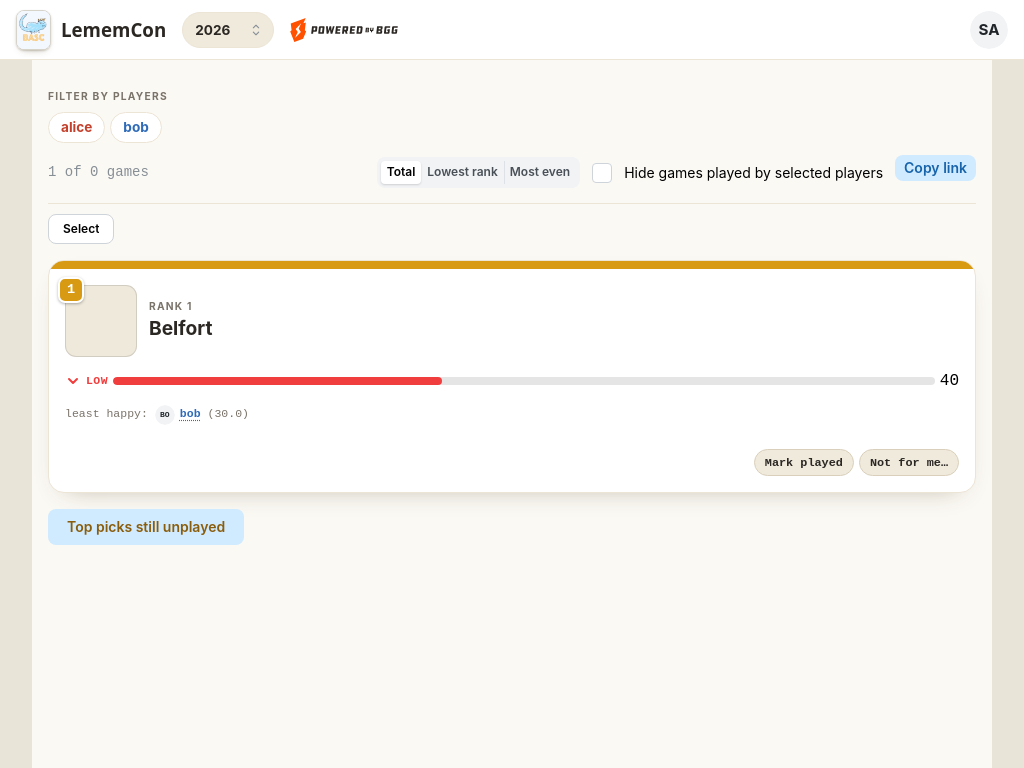
Test: Scoreboard › marking played › shows an error and keeps the dialog open when marking fails
The image size is (1024, 768).
Click the button with aria-label "Played:" at (804, 463), box [754,449,854,476]
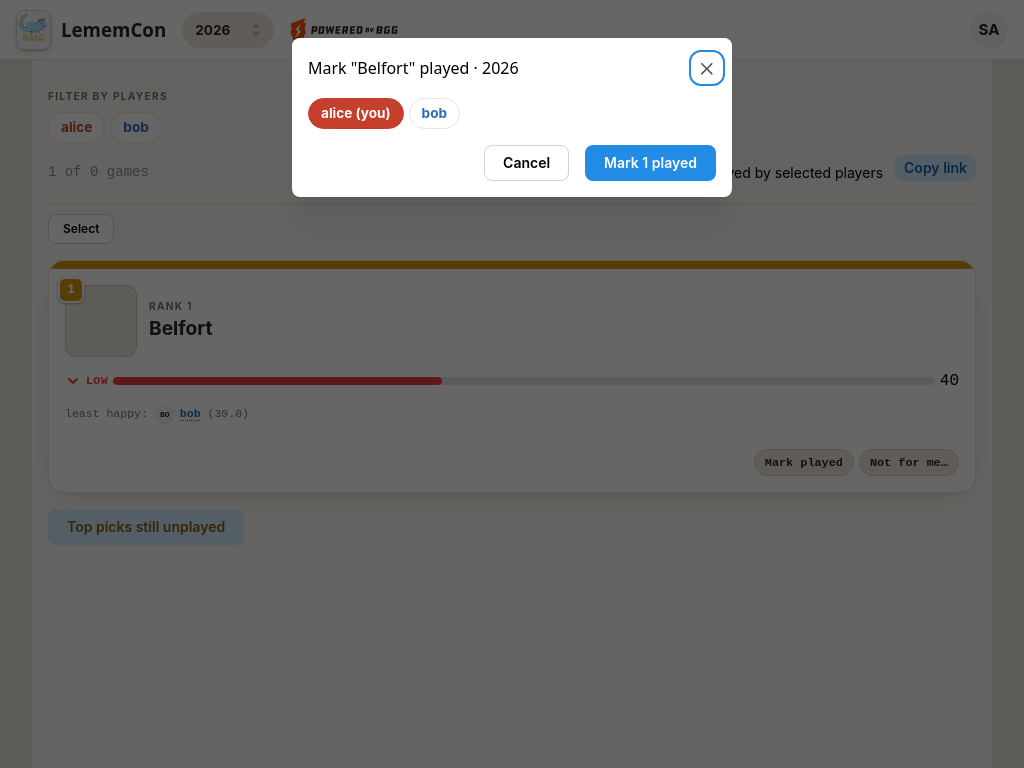
Click the button "bob" at (434, 114), box [409,98,460,129]
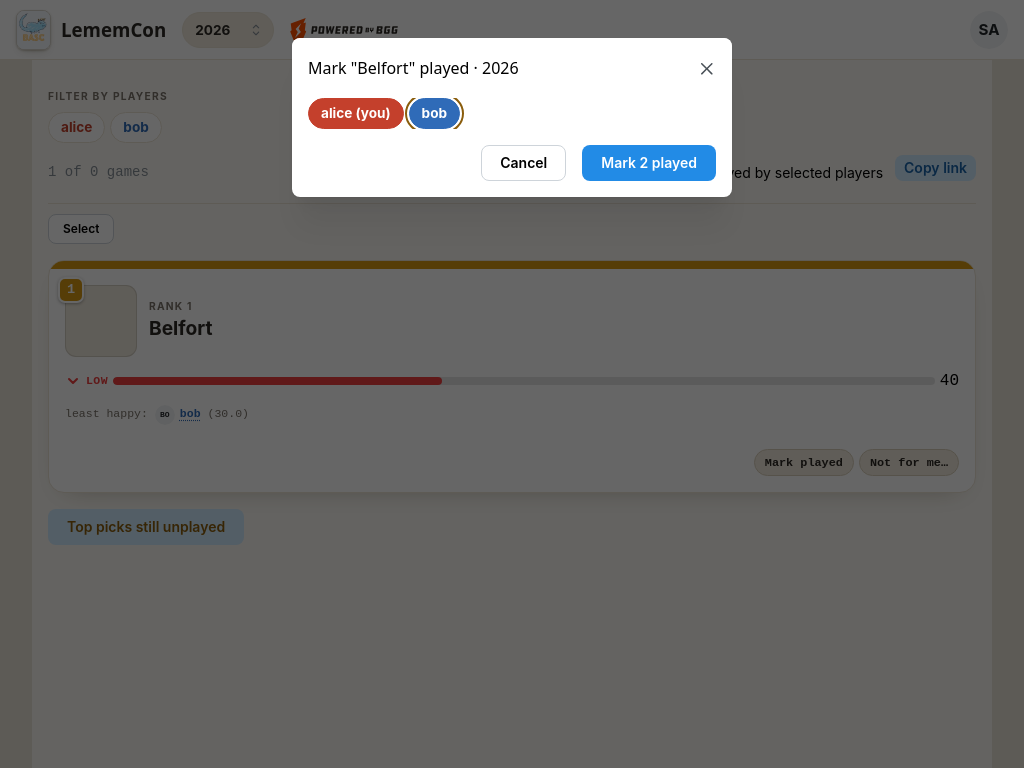
Click the button "Mark 2 played" at (649, 163), box [582,145,716,181]
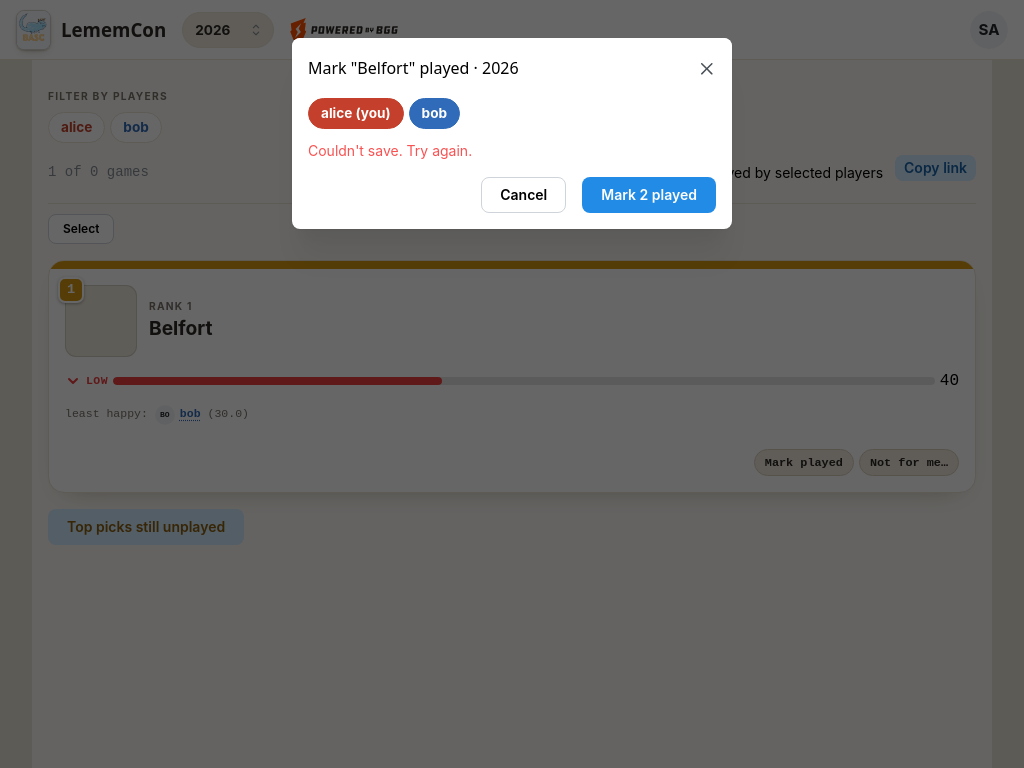
Now the dialog is shown, box [292,38,732,229]
Now the message "Couldn't save. Try again." is shown, box [308,142,472,159]
